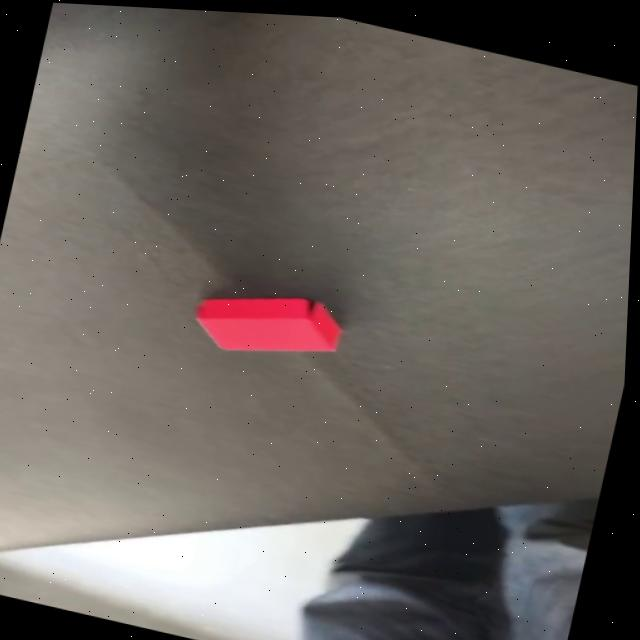red block: (184, 272, 348, 375)
